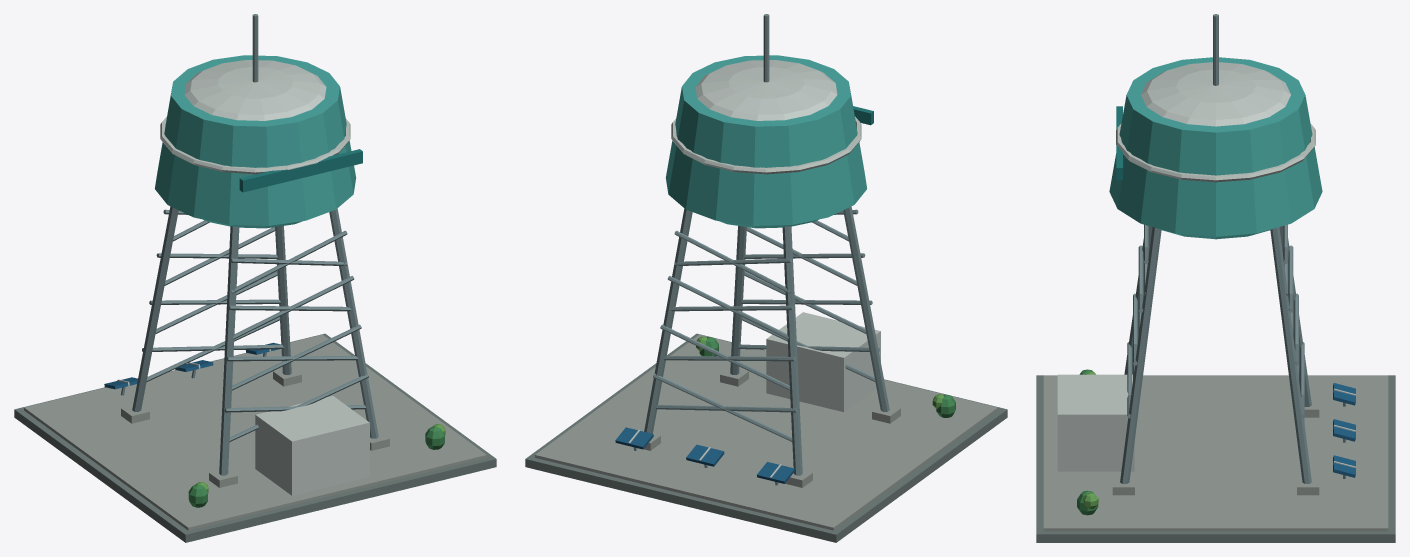
File: water_lv3.glb
The picture shows the model from 3 angles, left to right: view 1: azimuth 30°, elevation 25°; view 2: azimuth 150°, elevation 25°; view 3: azimuth 270°, elevation 25°; orthographic projection. The views are drawn at different scales.
Parts seen in each view (by area): view 1: rough, metallic; view 2: rough, metallic; view 3: rough, metallic.
Part boxes in pixels (x1,y1,x2,y2): rough: (14,55,496,542); metallic: (104,14,378,475); rough: (525,55,1007,542); metallic: (615,14,889,485); rough: (1036,57,1395,542); metallic: (1120,14,1355,483).
Size of the model in its own units: 8.8 by 11.55 by 8.4.
